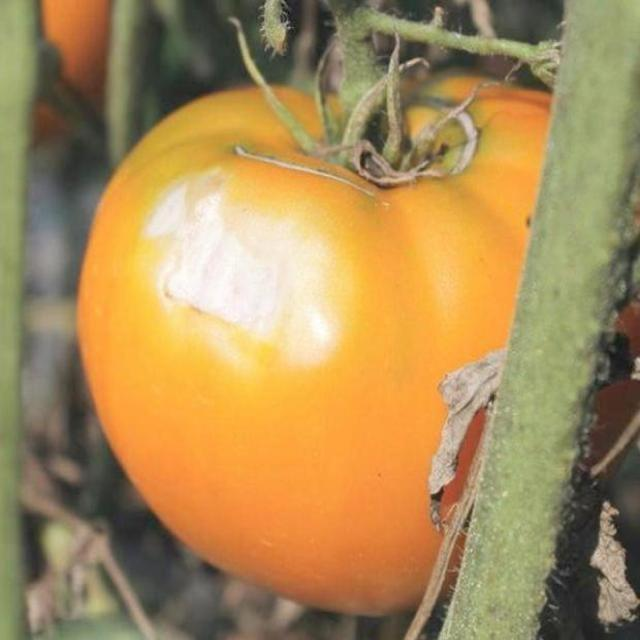Sunscald Fruit: (84, 106, 237, 252)
